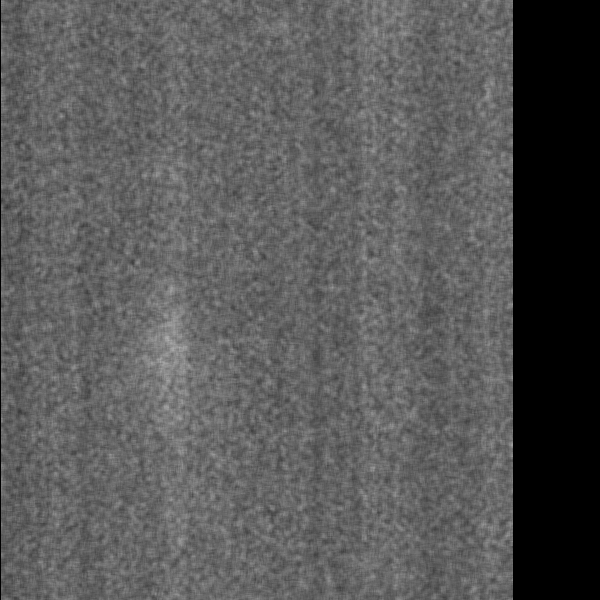spark: (147, 306, 177, 449)
